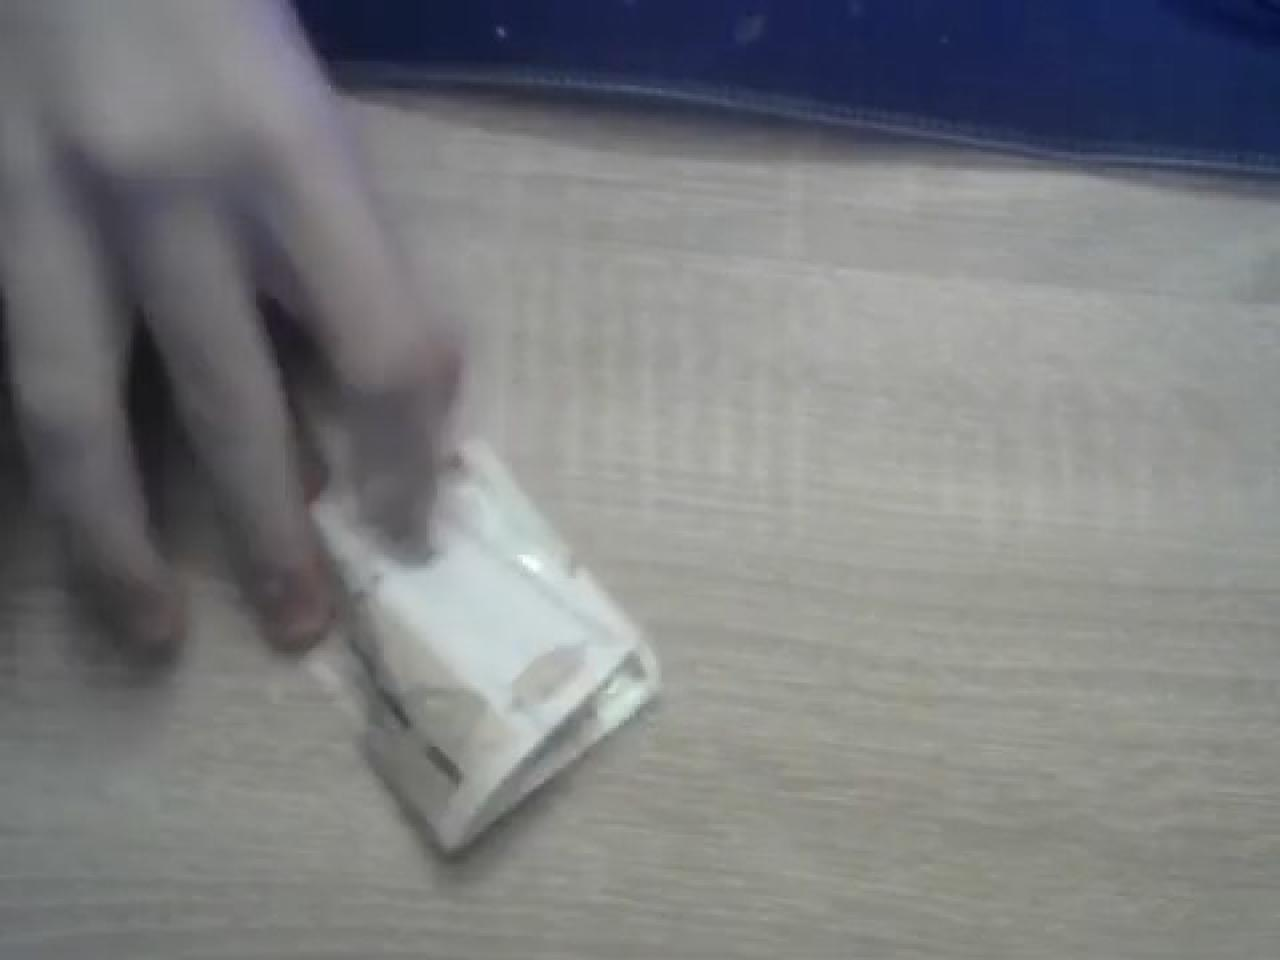10leva: (301, 430, 664, 859)
